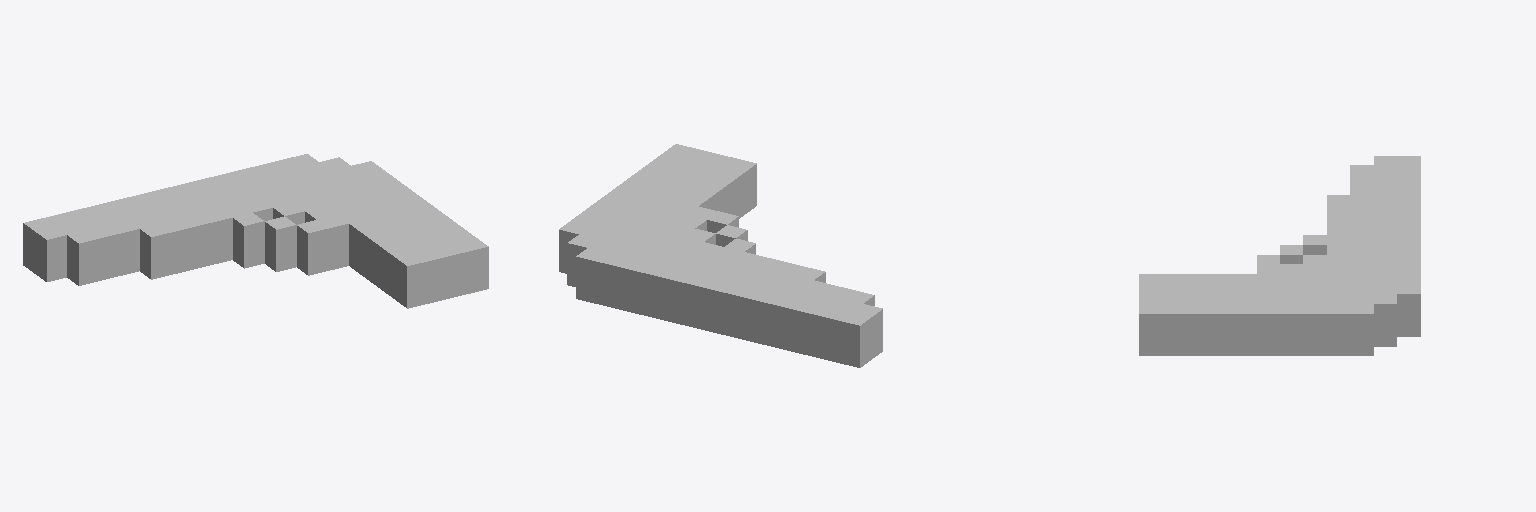
File: Pistol.obj
3 views of the same model, side by side, from view 1: azimuth 30°, elevation 25°; view 2: azimuth 150°, elevation 25°; view 3: azimuth 270°, elevation 25° (orthographic).
Visible parts, largest first — view 1: object 1; view 2: object 1; view 3: object 1.
Part boxes in pixels (x1,y1,x2,y2): object 1: (23,154,488,308); object 1: (559,144,882,367); object 1: (1139,156,1420,355).
Size of the model in its own units: 1.6 by 0.2 by 1.2.